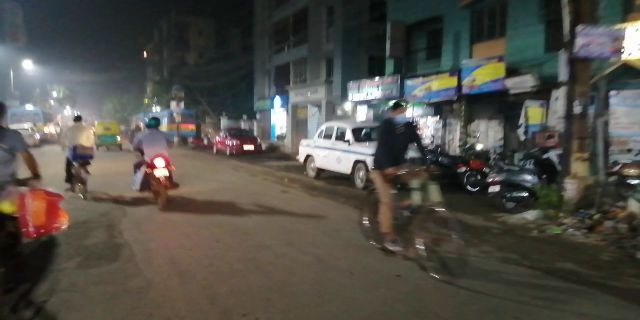Autorickshaw: (90, 116, 126, 153)
Car: (294, 118, 381, 187), (211, 123, 261, 157)
Cycle: (349, 102, 471, 282), (61, 113, 99, 202)
Motorbike: (132, 115, 180, 211)
